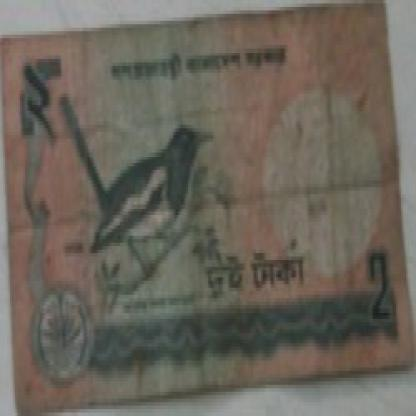two taka: (19, 66, 78, 180), (360, 225, 404, 340)
